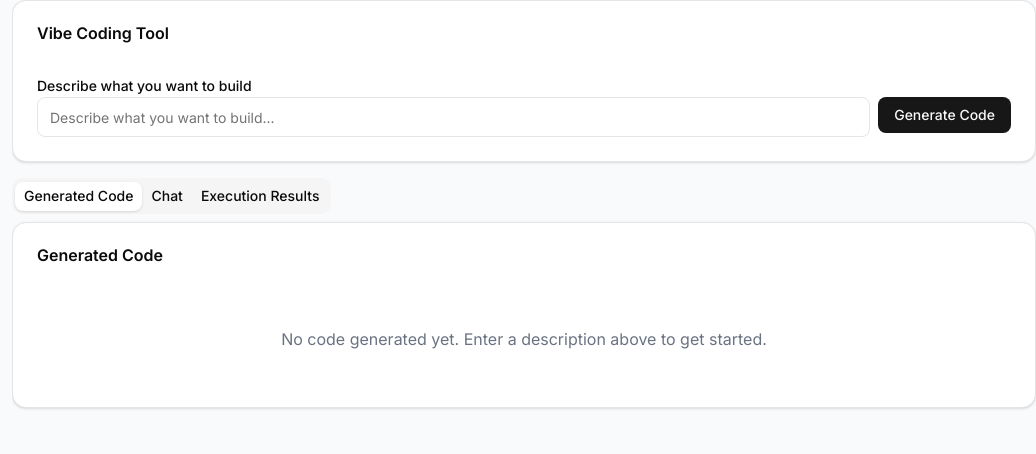
VibeCodingTool › Code Generation › should handle code generation errors
Type "Create invalid code" into the field with placeholder "Describe what you want to build..." at (454, 117), box [37,97,870,137]
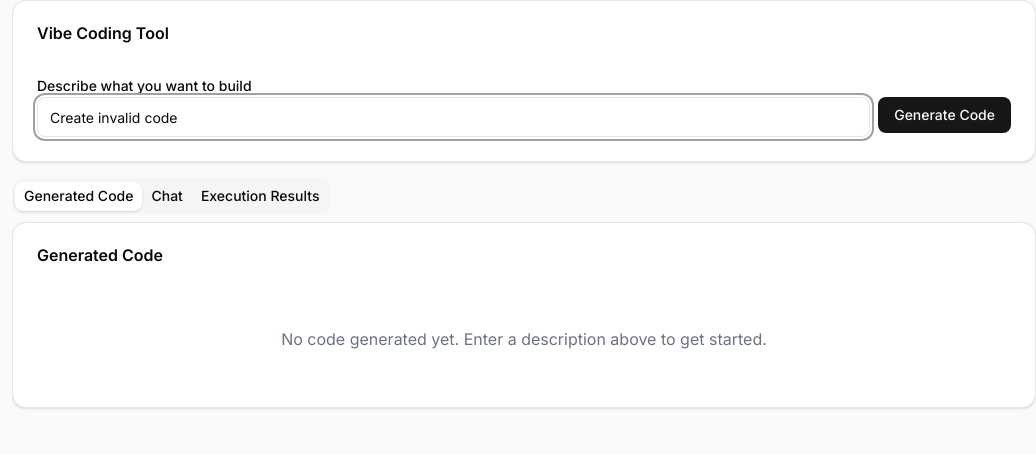
Click the button "Generate Code" at (945, 115), box [878,97,1011,133]
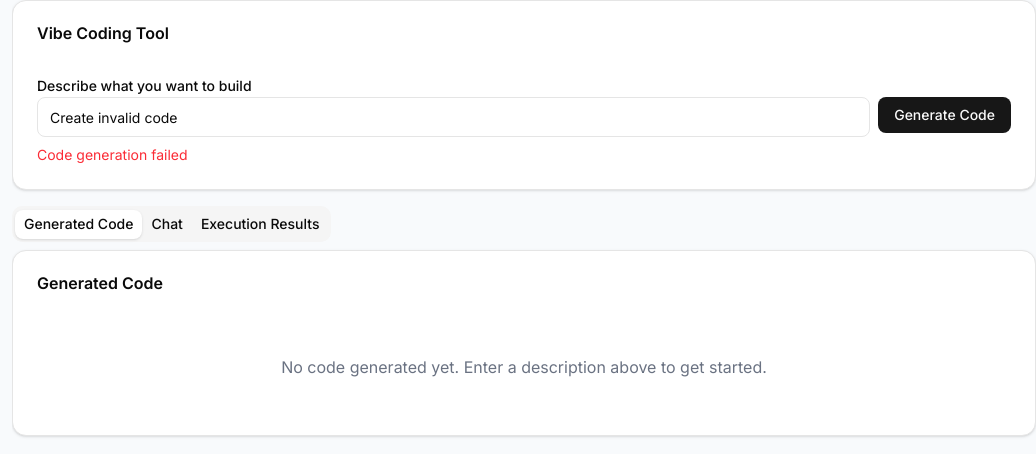
Check: the text "Code generation failed" is shown, box [37,146,188,163]
